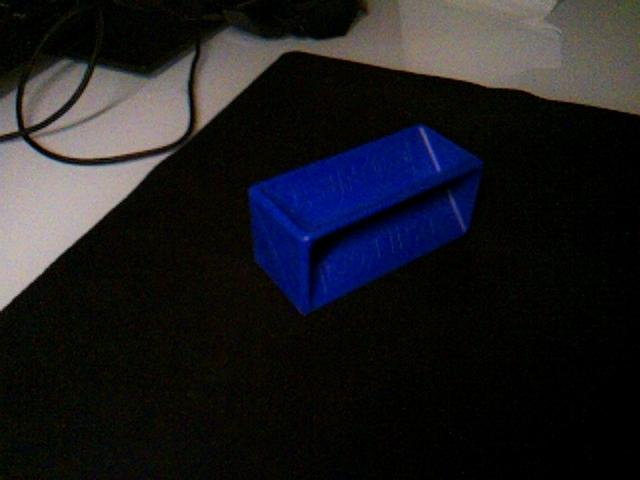blue: (246, 122, 485, 317)
